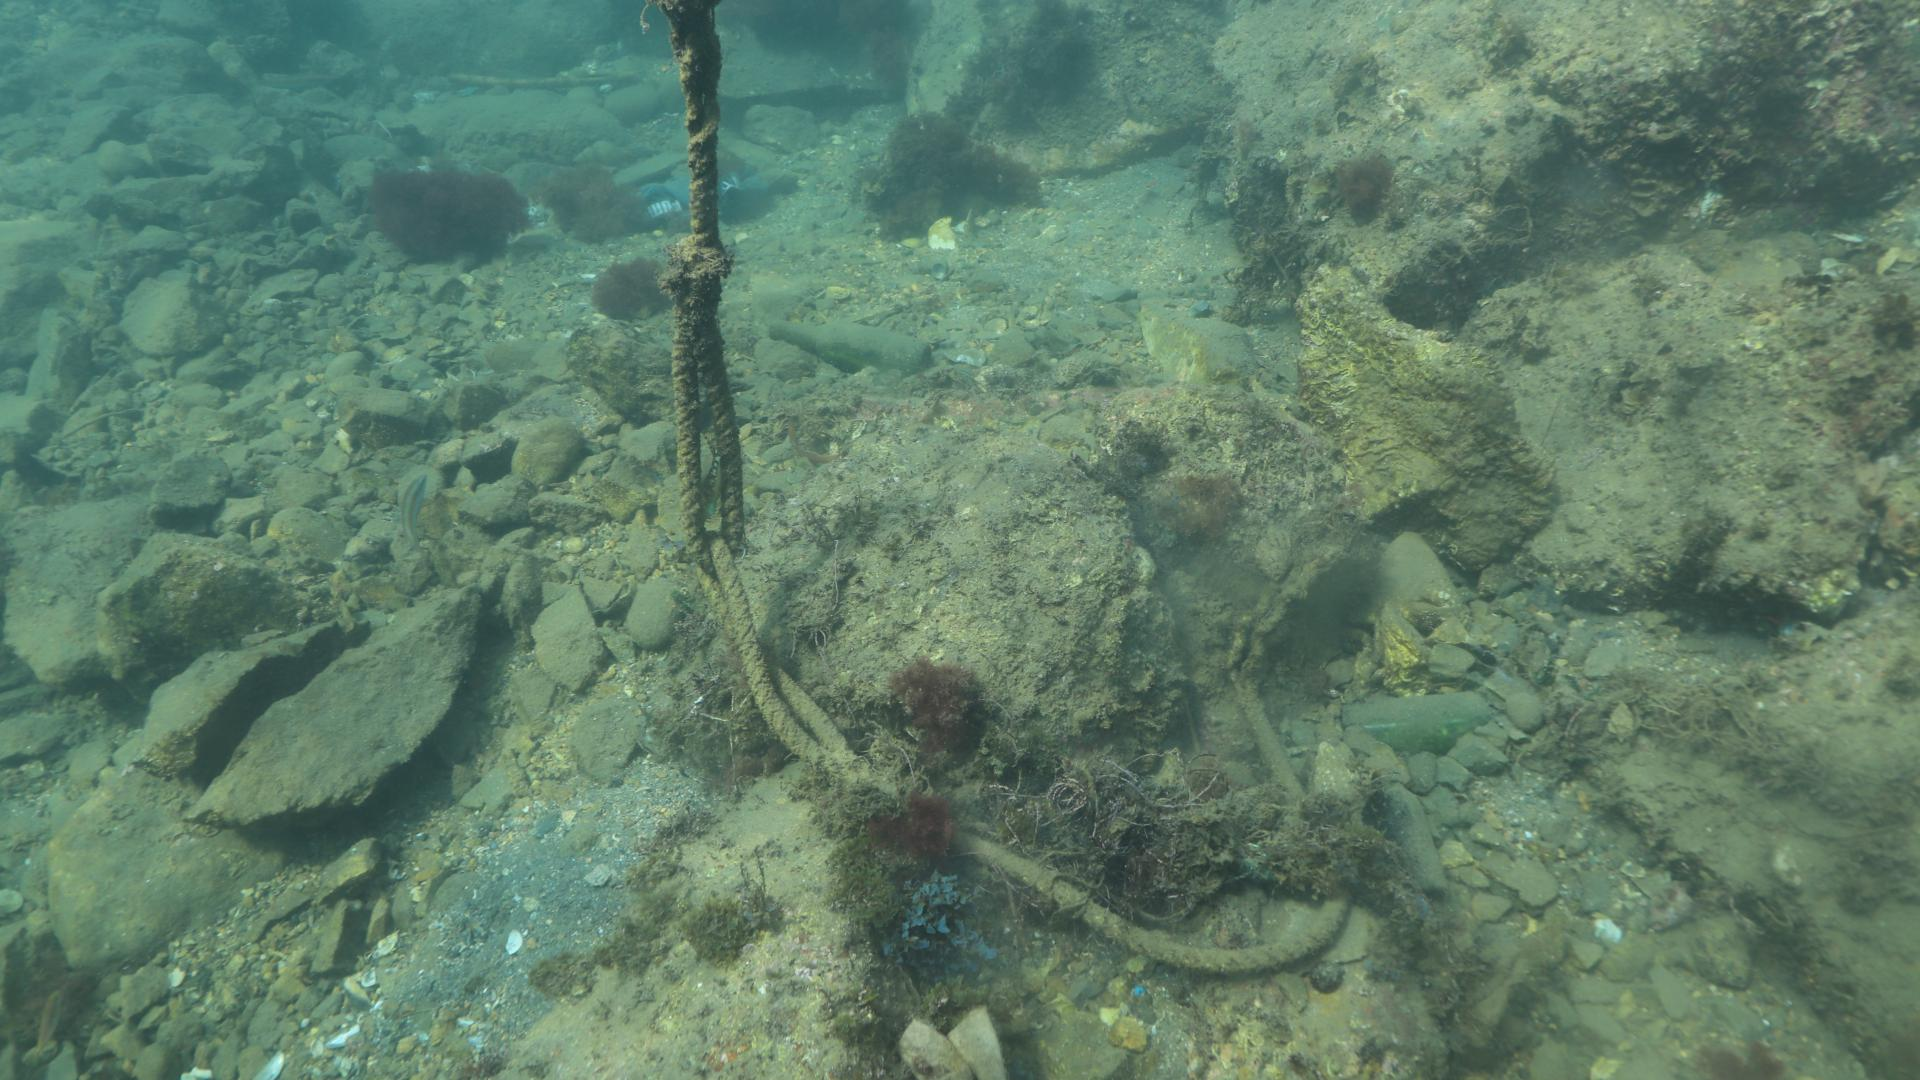bundle of ropes: (669, 30, 1353, 975)
